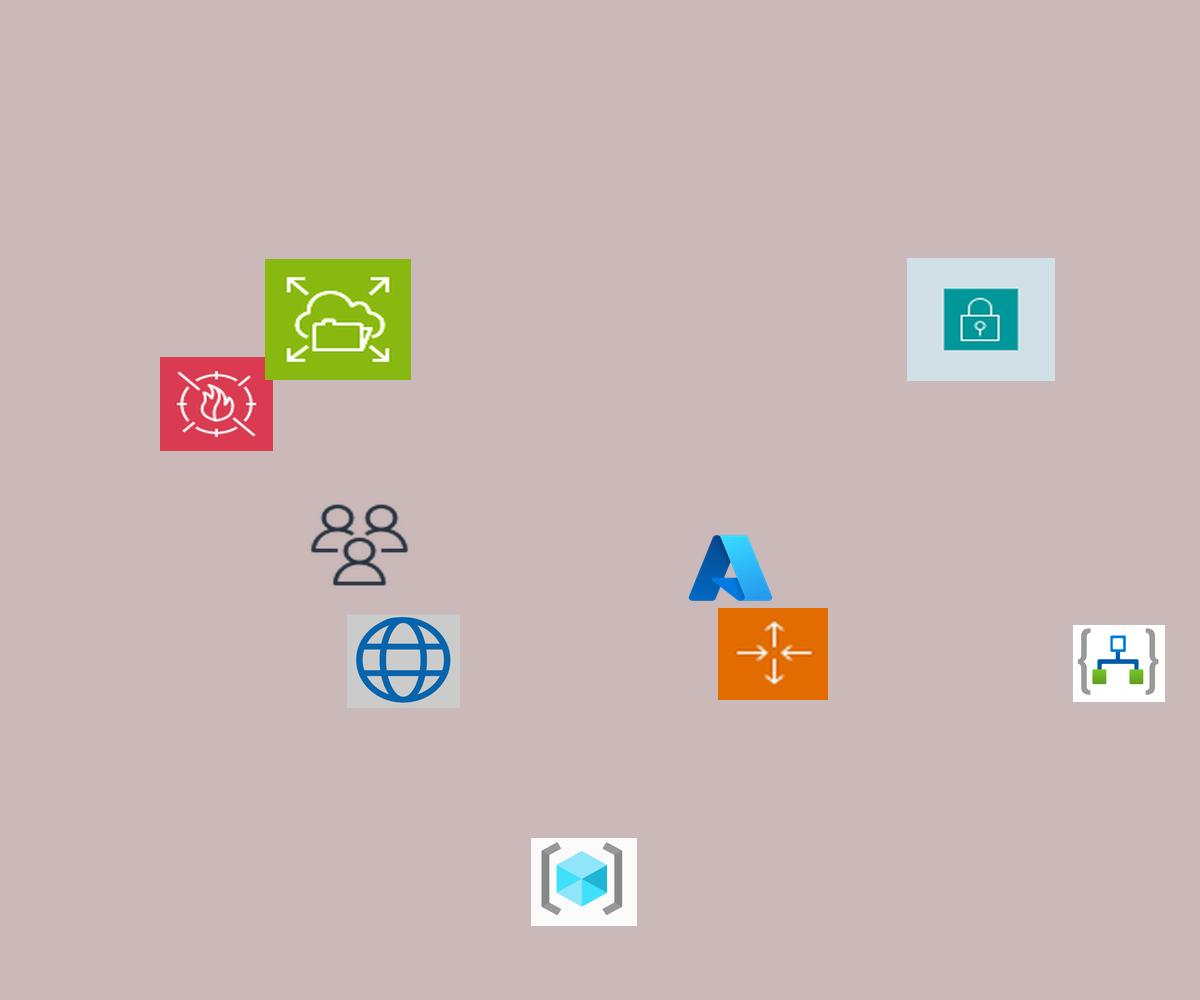AWS-EFS: (265, 259, 411, 380)
AWS-Private-subnet: (907, 258, 1055, 381)
AWS-Res_Users: (307, 501, 412, 589)
AWS-Scaling-group: (718, 608, 828, 700)
AWS-WAF: (160, 357, 273, 451)
Azure_http: (347, 614, 460, 708)
Azure_integration-204-Logic-Apps: (1073, 625, 1165, 702)
Azure_resource_group: (531, 838, 637, 926)
Azure_services: (685, 530, 776, 606)
